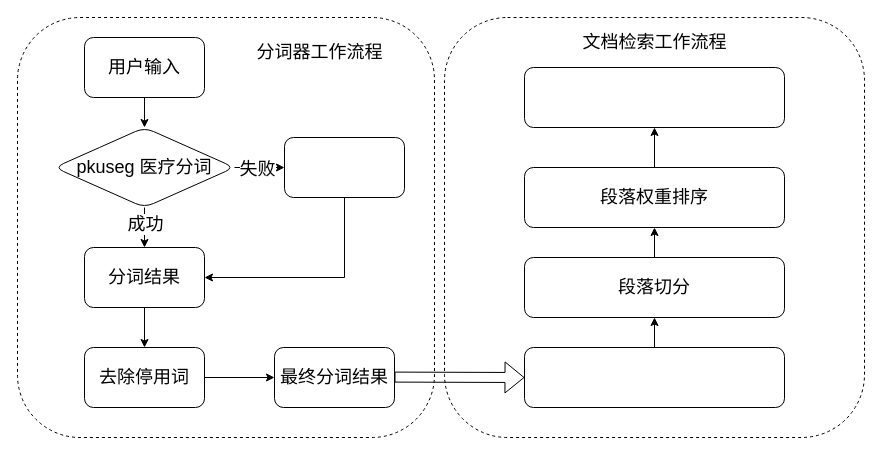
This 882x455 diagram has some shape labels left out. Here are the shapes that lost their labels. From the top down, the centre of each, then its label:
At [654,97]: "大模型生成回答".
At [344,167]: "N-gram分词".
At [654,377]: "文档级初筛".
